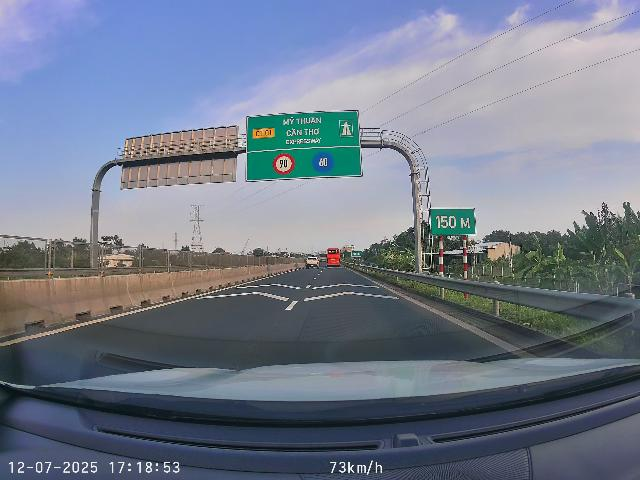127-toc-do-toi-da-90: (273, 153, 295, 175)
306-toc-do-toi-thieu-60: (312, 150, 335, 173)
437-bat-dau-duong-cao-toc: (339, 119, 354, 138)
